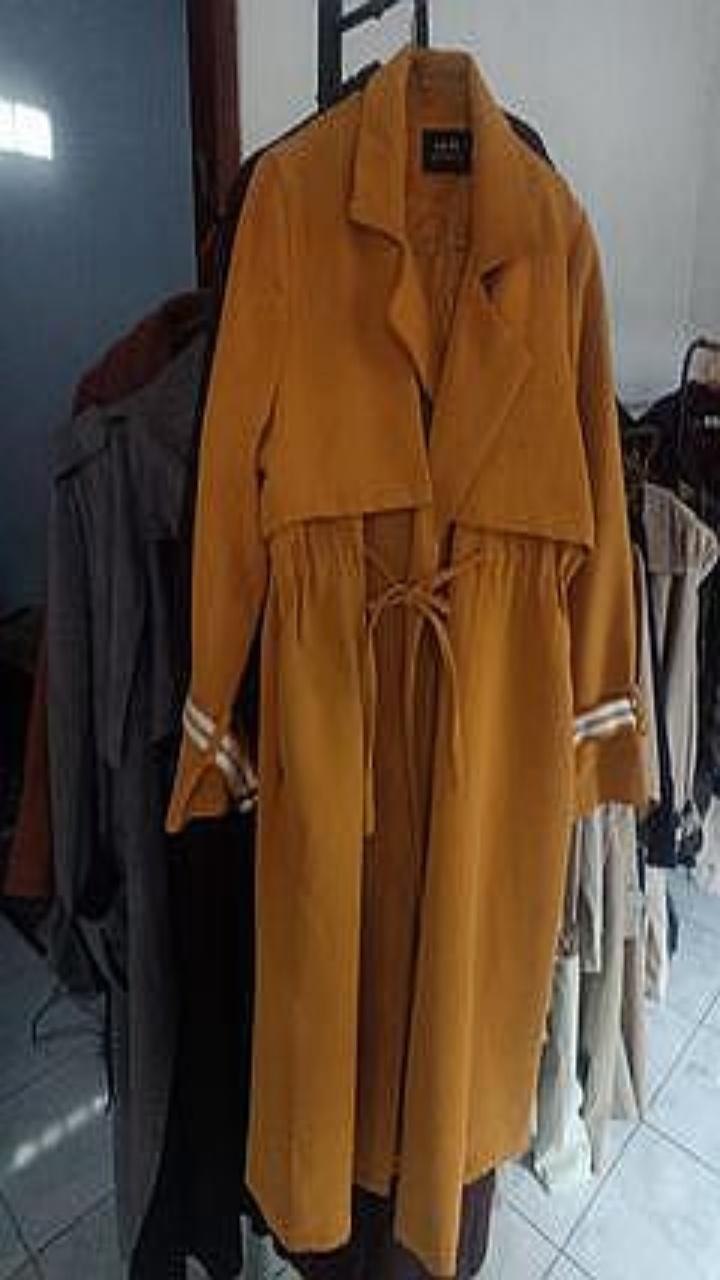Coat: (169, 52, 645, 1275), (48, 332, 252, 1279)
